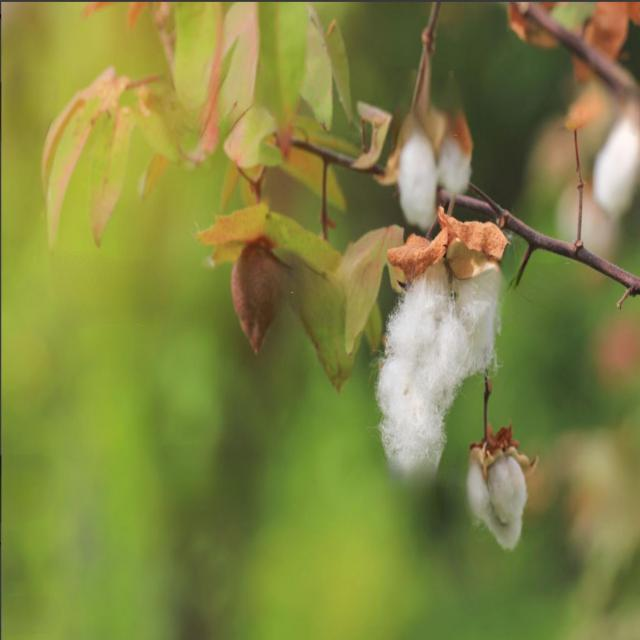Early_blight: (373, 222, 511, 472)
